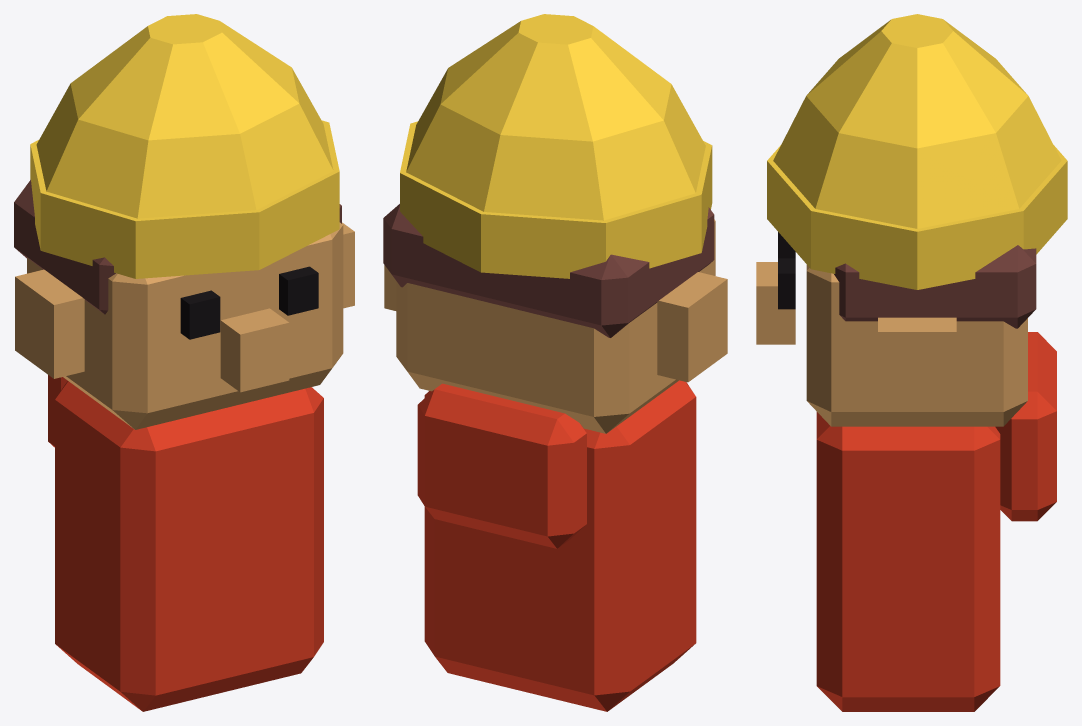
File: skater_torso.glb
3 views of the same model, side by side, from view 1: azimuth 30°, elevation 25°; view 2: azimuth 150°, elevation 25°; view 3: azimuth 270°, elevation 25° (orthographic).
Visible parts, largest first — view 1: Torso; view 2: Torso; view 3: Torso.
Boxes of the visible parts, bbox=[...] form: Torso: bbox=[14, 14, 354, 711]; Torso: bbox=[383, 14, 727, 711]; Torso: bbox=[756, 14, 1067, 711].
Size of the model in its own units: 0.49 by 0.99 by 0.435.
